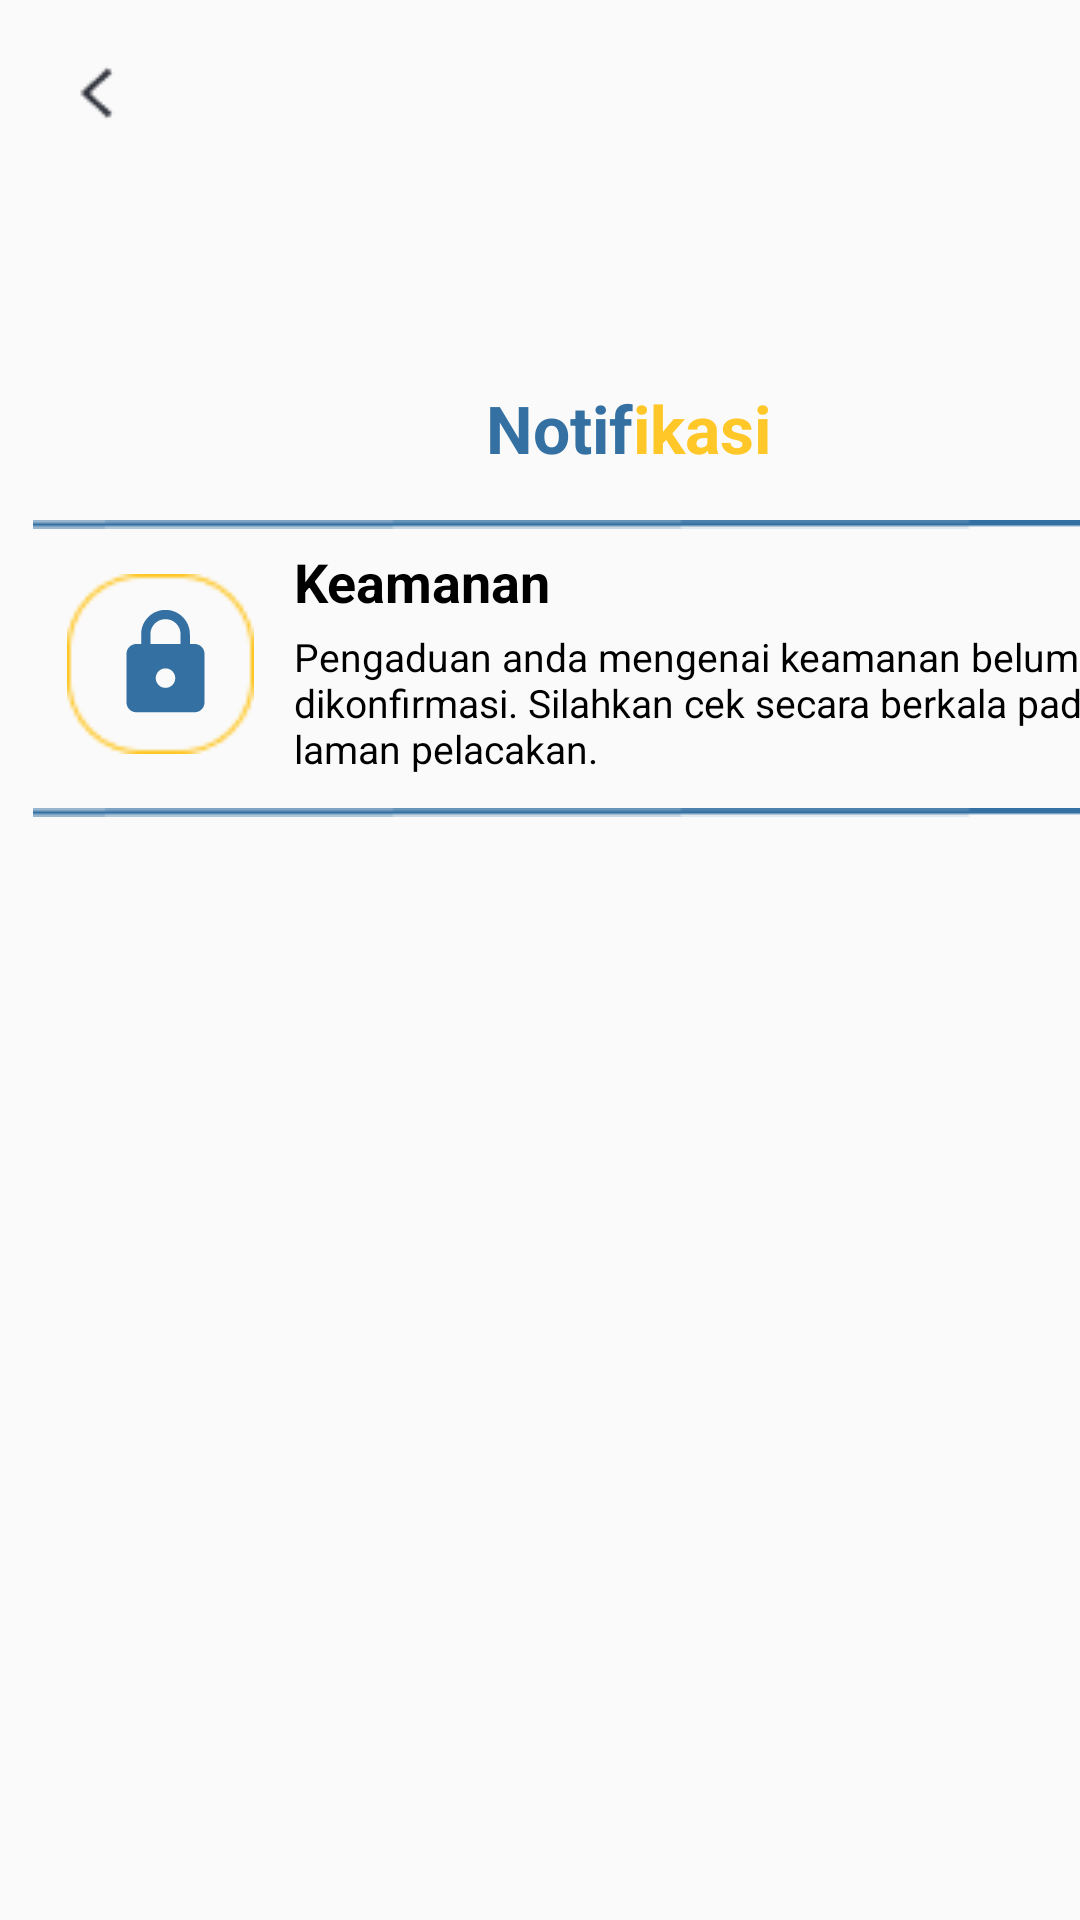

Screen size 1080*1920. Icon name, then its box in pixels as box(x1, y1, x2, y2):
back arrow: box(80, 68, 112, 118)
